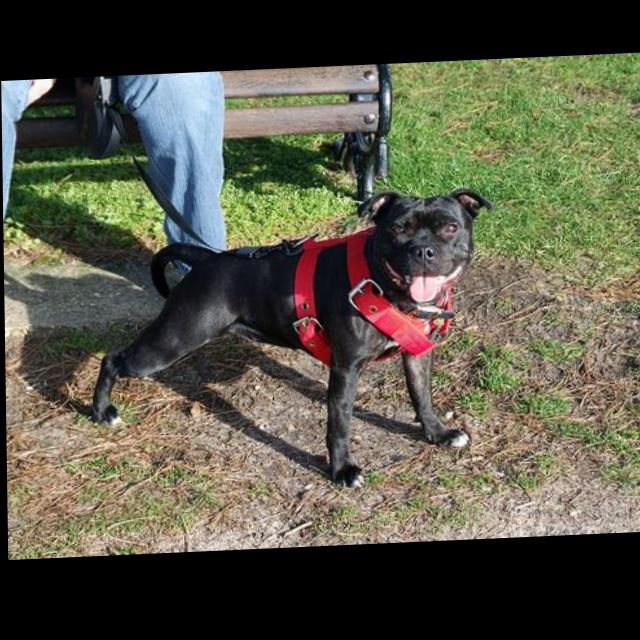staffford: (88, 188, 498, 502)
